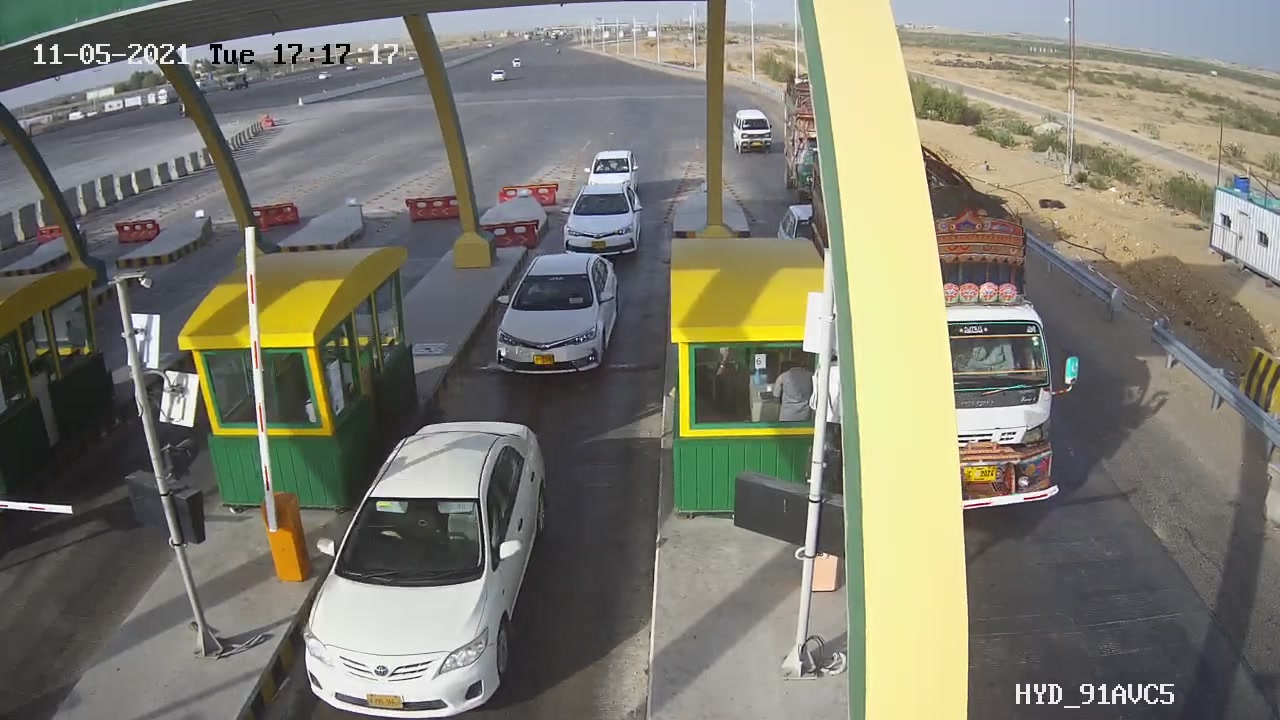F1: (481, 246, 635, 385), (552, 177, 656, 264)
